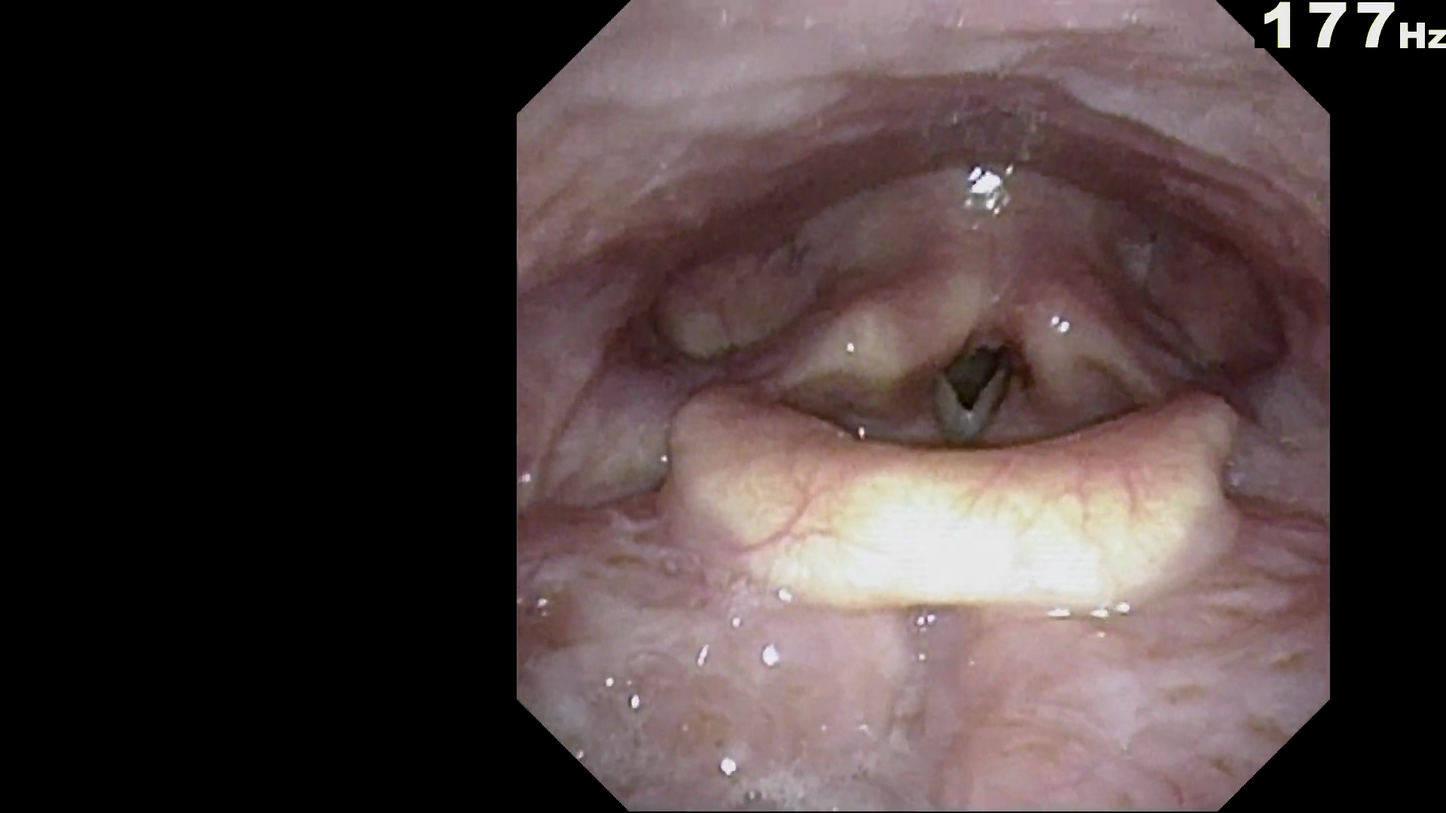epiglottis: (659, 373, 1254, 640)
trachea: (926, 322, 1017, 445)
